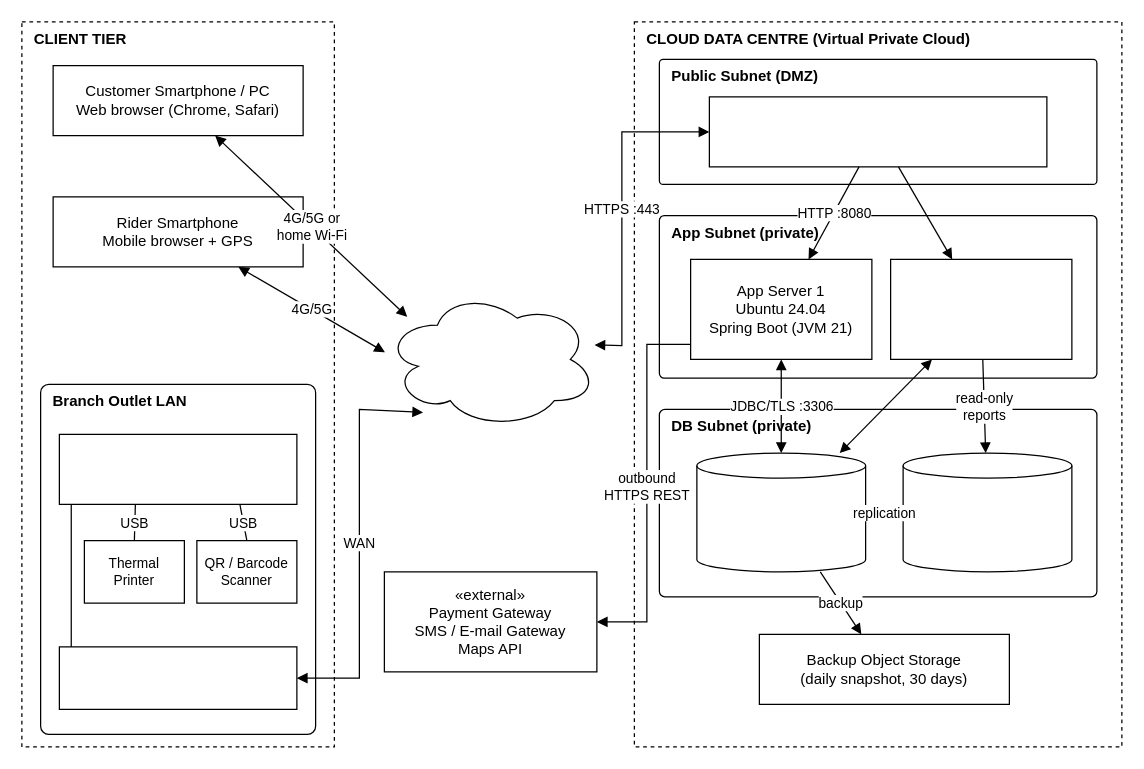
This 1144x769 diagram has some shape labels left out. The centre of each missing label's shape, as x and y in pixels:
"App Server 2 Ubuntu 24.04 Spring Boot (JVM 21)" belongs at point 980,308.
"Branch Router + Firewall Fibre broadband / 4G backup" belongs at point 177,677.
"Cloud Firewall + WAF Nginx Load Balancer (TLS termination)" belongs at point 877,131.
"Counter POS PC / Tablet Web browser (staff portal)" belongs at point 177,468.
"Internet HTTPS / TLS 1.3" belongs at point 490,358.
"MySQL 8.0 Primary" belongs at point 781,512.
"MySQL 8.0 Read Replica" belongs at point 987,512.
